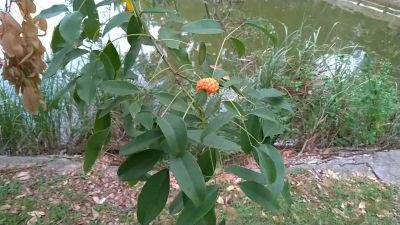eggs: (196, 73, 219, 96)
